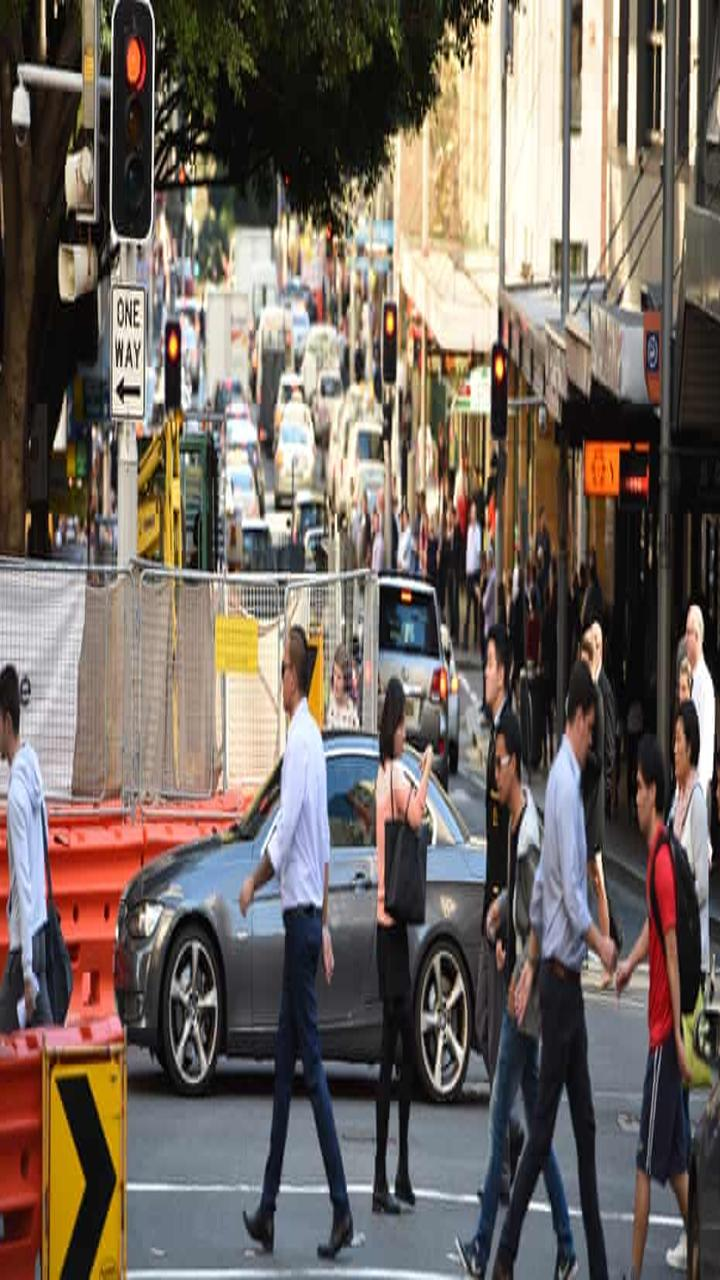Traffic sign: (31, 1032, 136, 1280), (103, 5, 163, 232)
pedestrian: (492, 664, 631, 1280), (238, 623, 363, 1261), (610, 731, 720, 1280), (348, 669, 458, 1218), (346, 637, 440, 1224)
